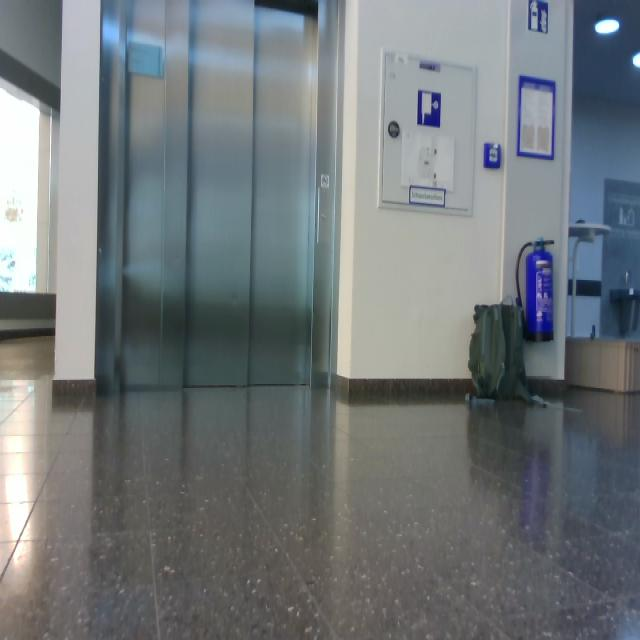door: (96, 1, 341, 393)
fire extinguisher: (516, 239, 555, 343)
light bulb: (568, 220, 611, 337), (594, 17, 620, 36), (5, 196, 24, 222), (632, 50, 640, 69)
tiled floor: (2, 336, 639, 638)
window: (1, 76, 54, 296)
